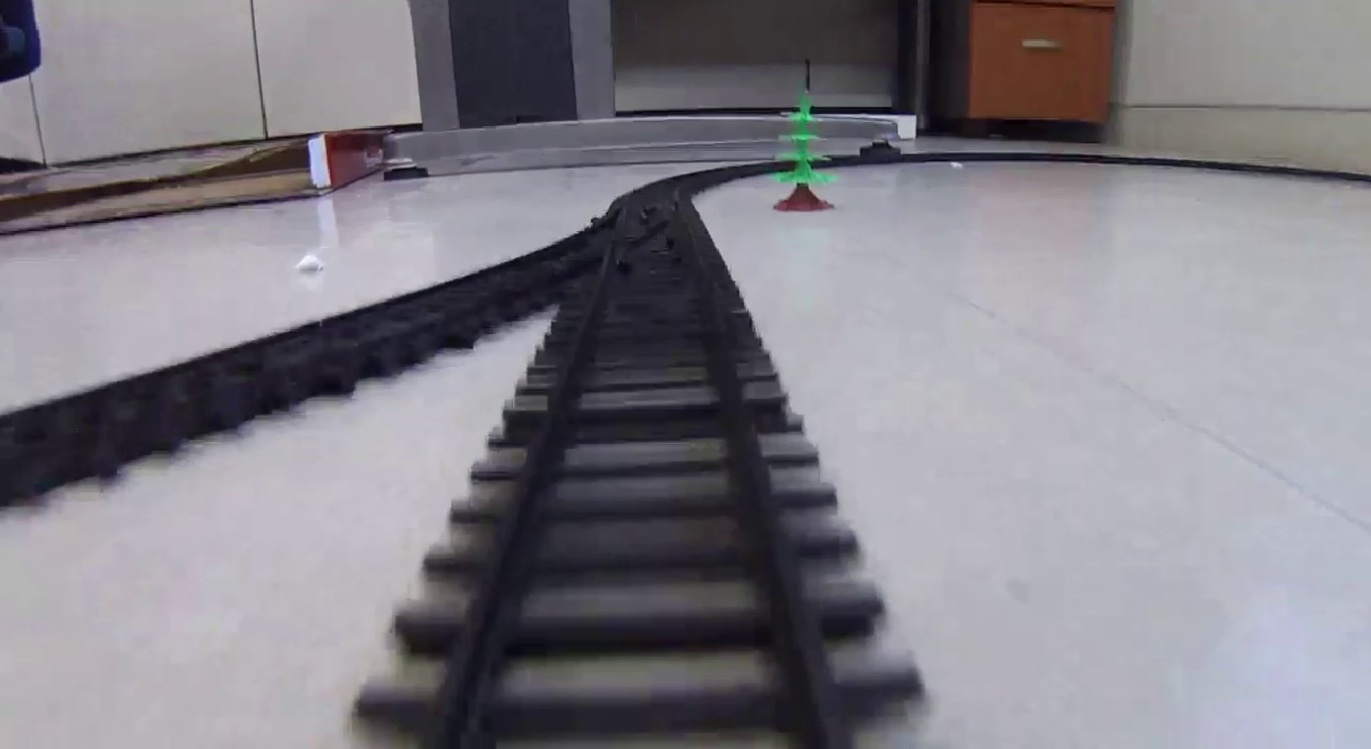tree: (769, 86, 835, 210)
